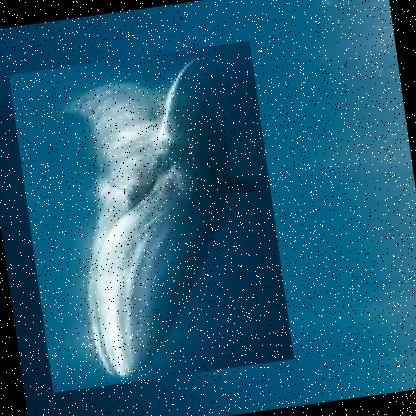blue_whale: (7, 40, 294, 392)
